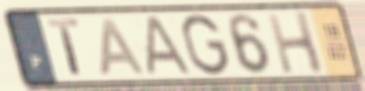6: (226, 11, 274, 78)
A: (142, 14, 196, 77), (98, 16, 148, 78)
G: (179, 12, 231, 77)
H: (264, 9, 327, 76)
T: (45, 17, 85, 78)
